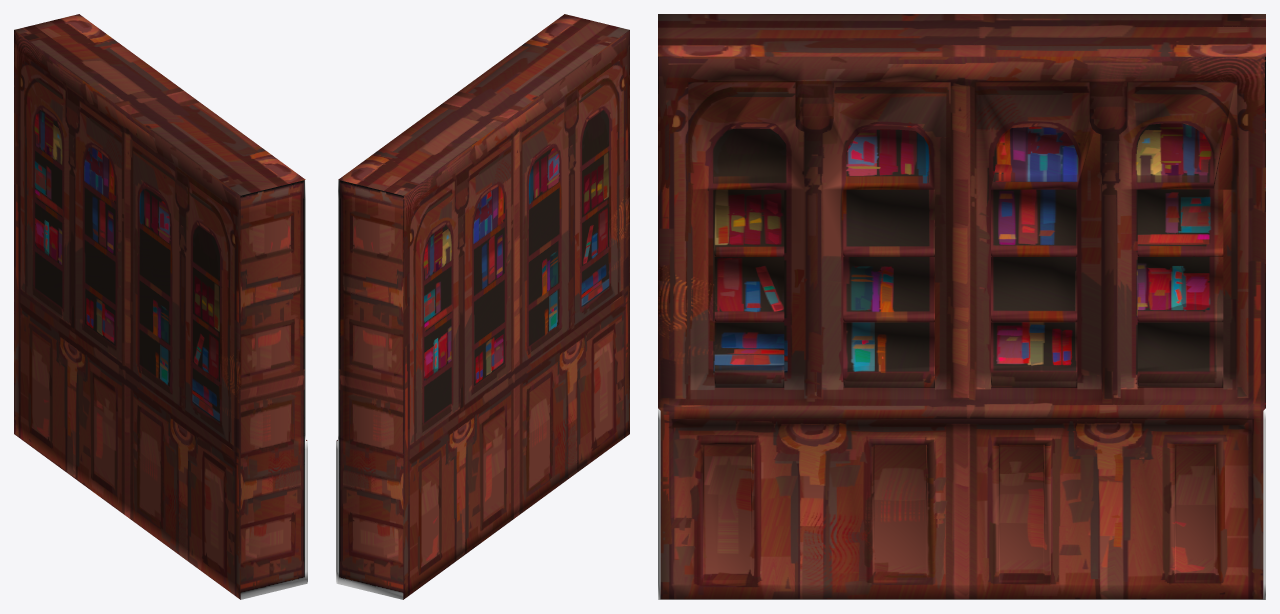
File: bookshelf.glb
The picture shows the model from 3 angles, left to right: view 1: azimuth 30°, elevation 25°; view 2: azimuth 150°, elevation 25°; view 3: azimuth 270°, elevation 25°; orthographic projection. The views are drawn at different scales.
Visible parts, largest first — view 1: Cube.083; view 2: Cube.083; view 3: Cube.083.
Boxes of the visible parts, x1,y1,x2,y2 form: Cube.083: (14, 14, 307, 599); Cube.083: (336, 14, 629, 599); Cube.083: (658, 14, 1265, 599).
Size of the model in its own units: 0.5258 by 2.98 by 3.02.
1 material, 1 textured.
